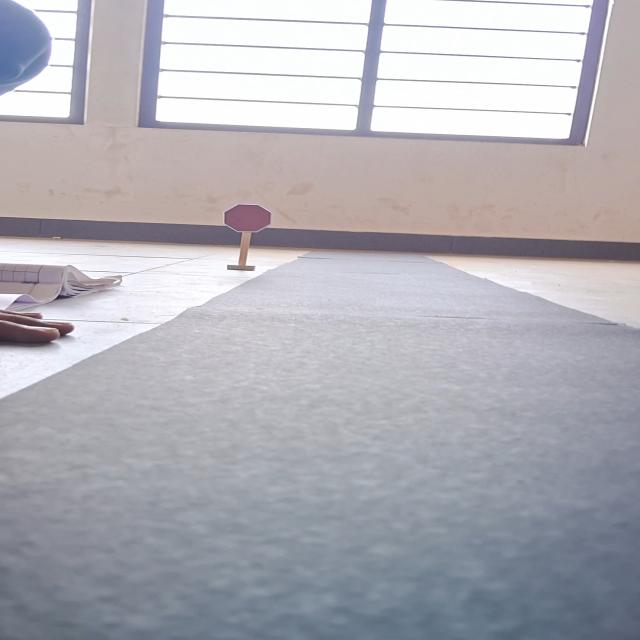Stop: (222, 203, 273, 233)
